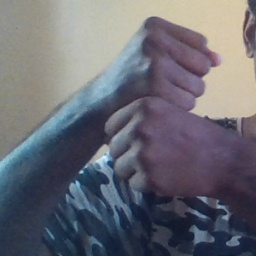G: (104, 15, 224, 198)
